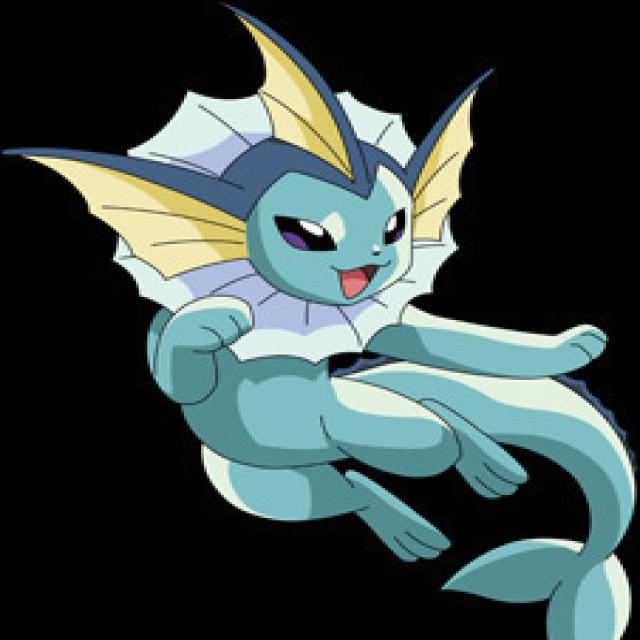Vaporeon: (69, 57, 587, 511)
